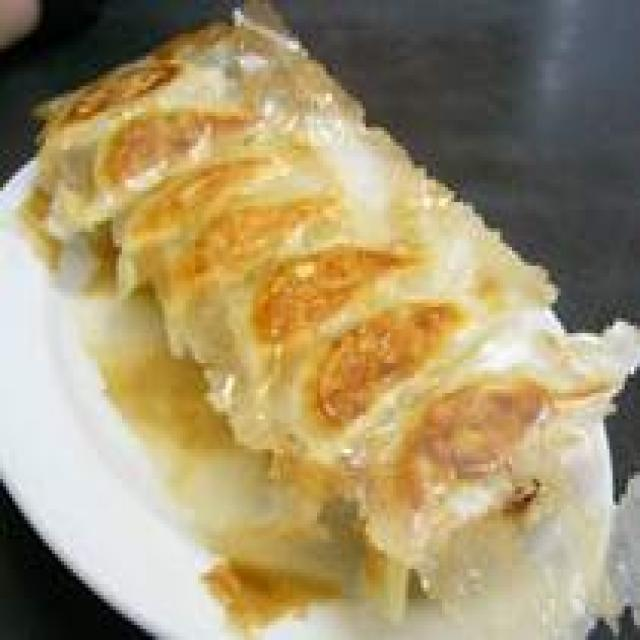带馅早点: (18, 22, 610, 629)
